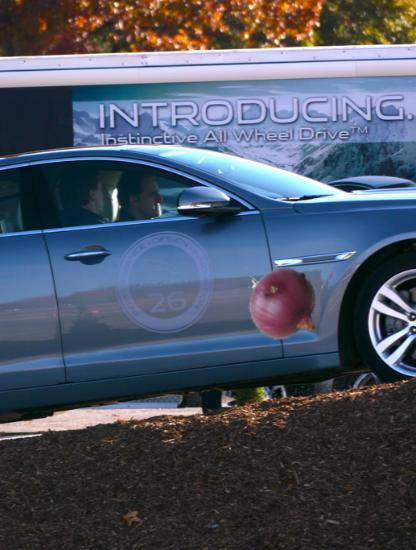Onion: (230, 251, 327, 348)
